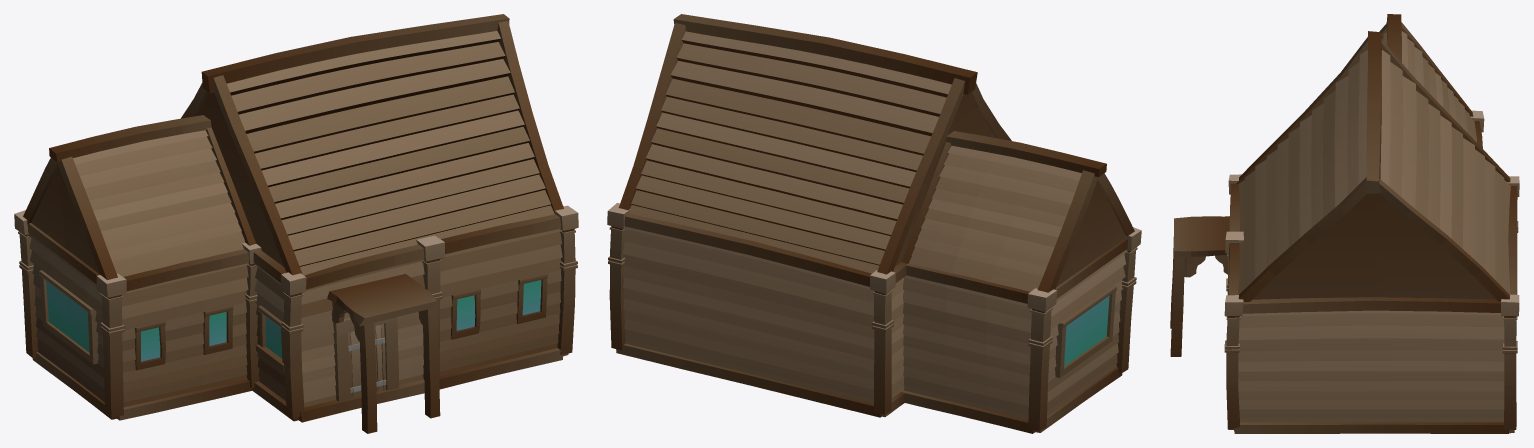
File: House_Built.fbx
3 renders of one model, left to right at view 1: azimuth 30°, elevation 25°; view 2: azimuth 150°, elevation 25°; view 3: azimuth 270°, elevation 25°, orthographic. The views are drawn at different scales.
Visible parts, largest first — view 1: Cube.040; view 2: Cube.040; view 3: Cube.040.
Boxes of the visible parts, left/top/right/bottom form: Cube.040: left=14, top=14, right=578, bottom=433; Cube.040: left=607, top=14, right=1141, bottom=433; Cube.040: left=1170, top=14, right=1519, bottom=433.
Bounding box in the file's own units: 1093 × 698 × 809.
